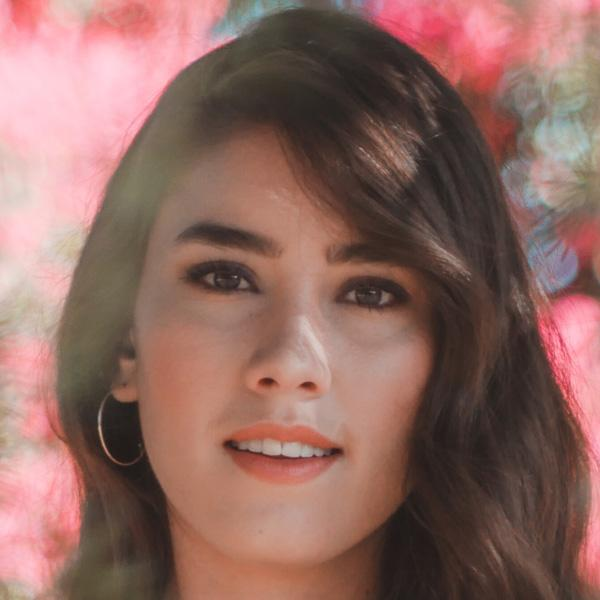Eyes: (175, 250, 264, 305), (327, 269, 412, 325)
